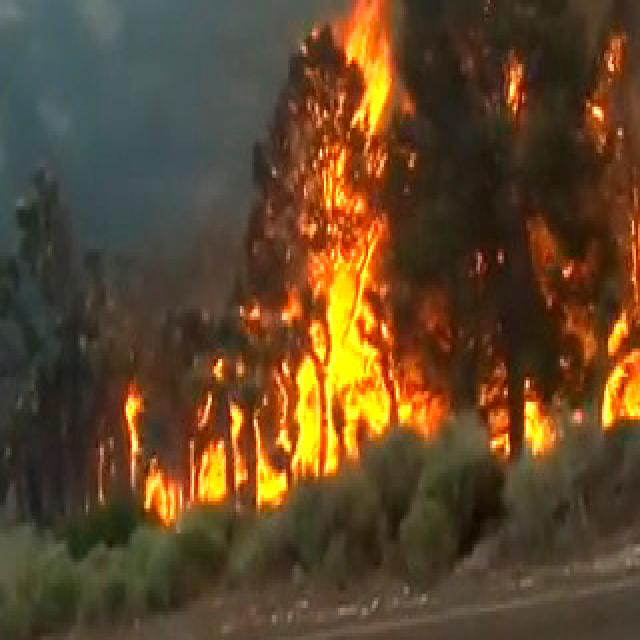fire: (270, 44, 400, 428), (604, 299, 640, 437)
